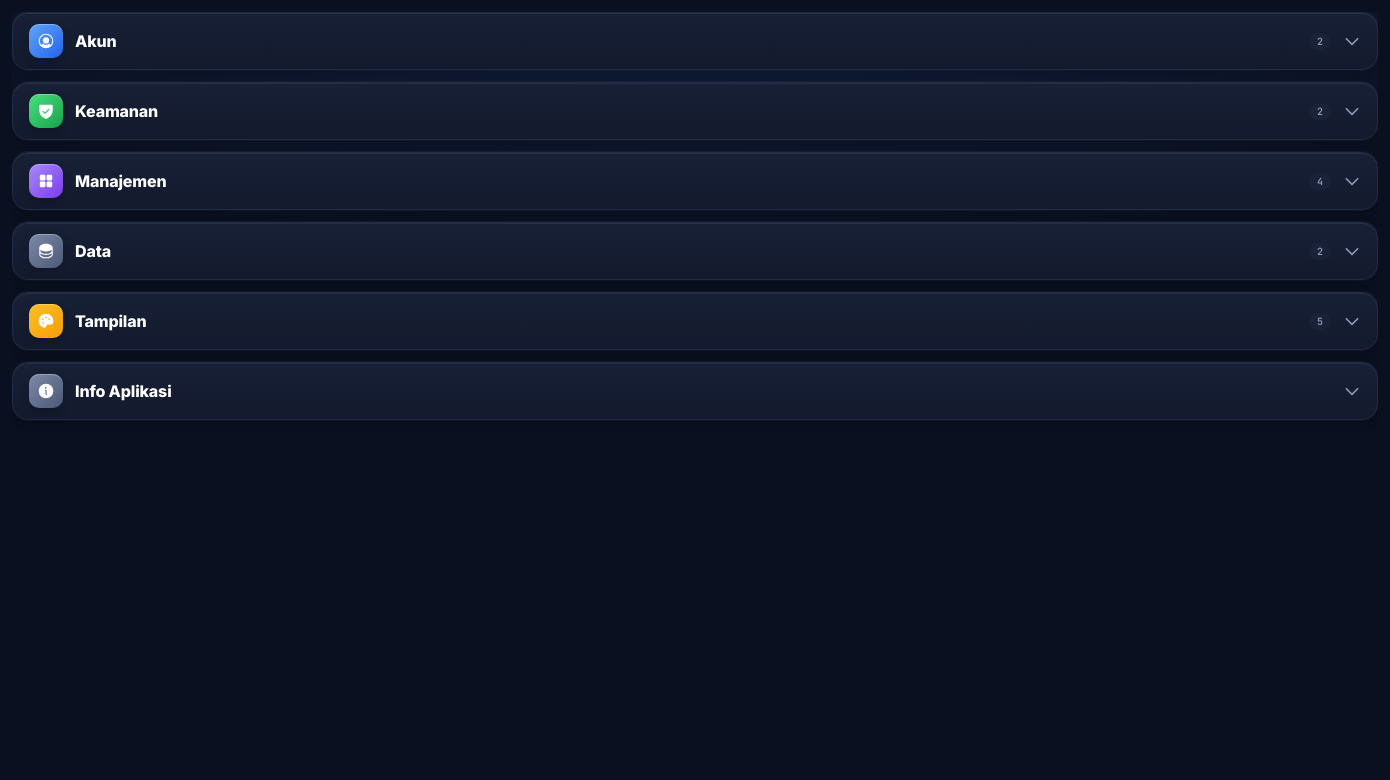
Test: Pengaturan — grup Akun memakai nama zip › Indonesia: "Akun Saya" + deskripsi seksi, "Akun Penagih" + deskripsi seksi
The width and height of the screenshot is (1390, 780).
Click the button "Akun 2": (46, 41) x1=12 y1=12 x2=1378 y2=70
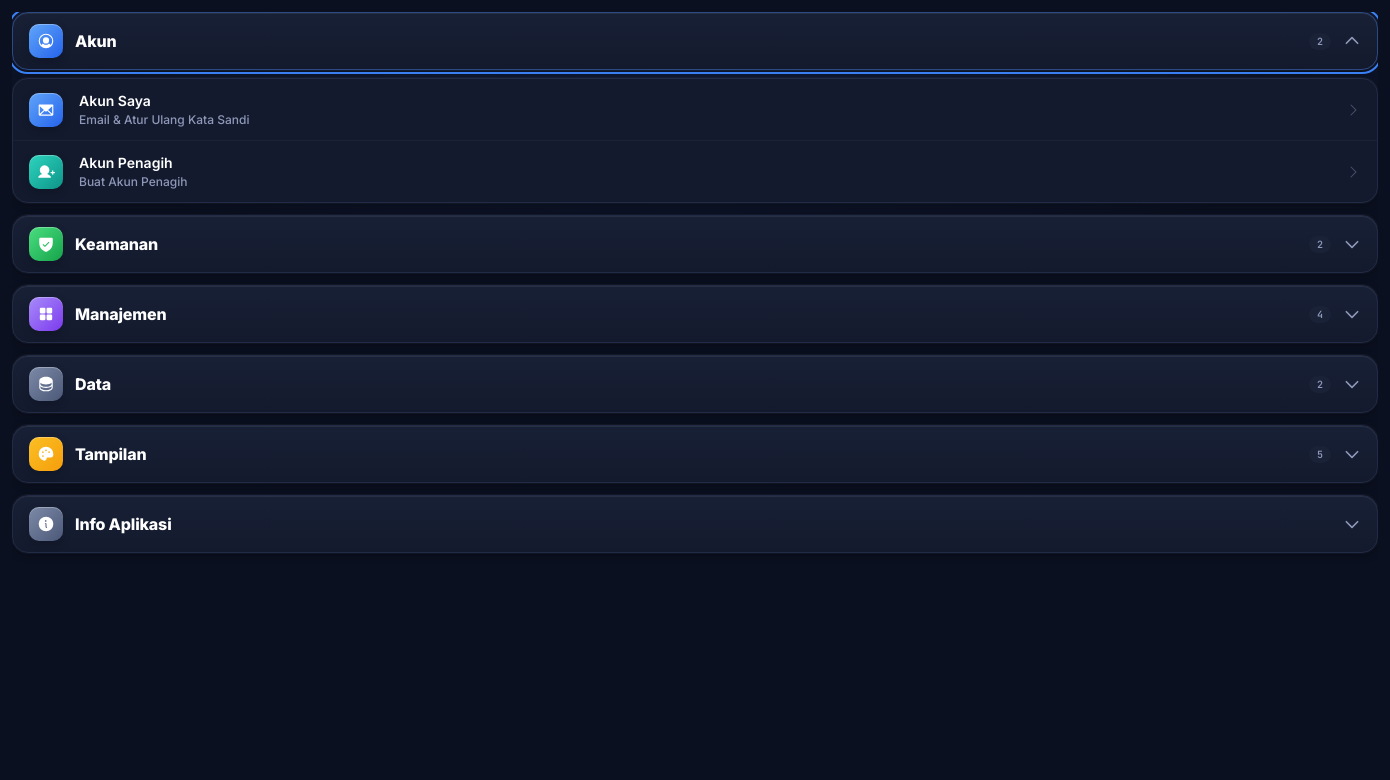
Result: the text "Akun Saya" is shown at x1=79 y1=92 x2=151 y2=109
Result: the text "Email & Atur Ulang Kata Sandi" is shown at x1=79 y1=112 x2=249 y2=127
Result: the text "Akun Penagih" is shown at x1=79 y1=154 x2=173 y2=171
